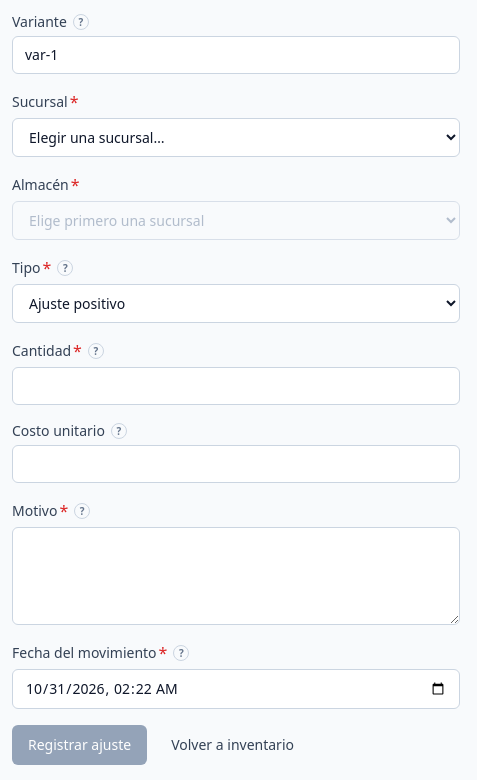
AdjustmentForm › POSTs exactly CreateAdjustmentDto (plus occurredAt) and never a tenantId
Select "Sucursal Central" in the dropdown labelled "Sucursal". click: (236, 138)
box: [12,118,460,157]
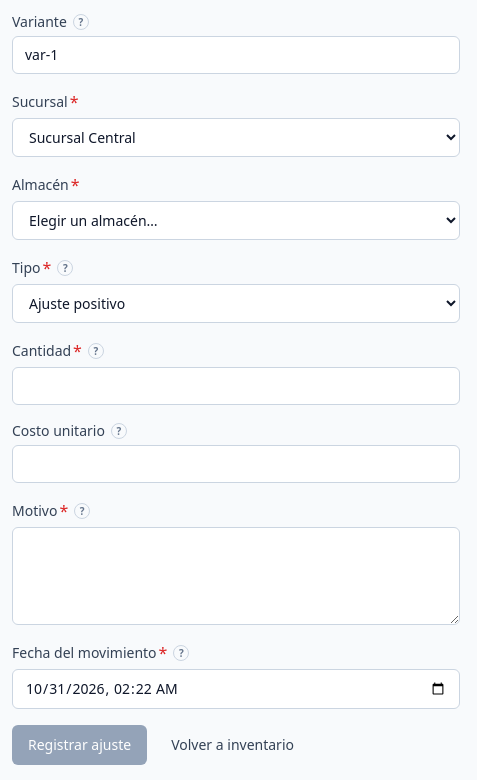
Select "Central / General" in the dropdown labelled "Almacén". click: (236, 220)
box: [12,201,460,240]
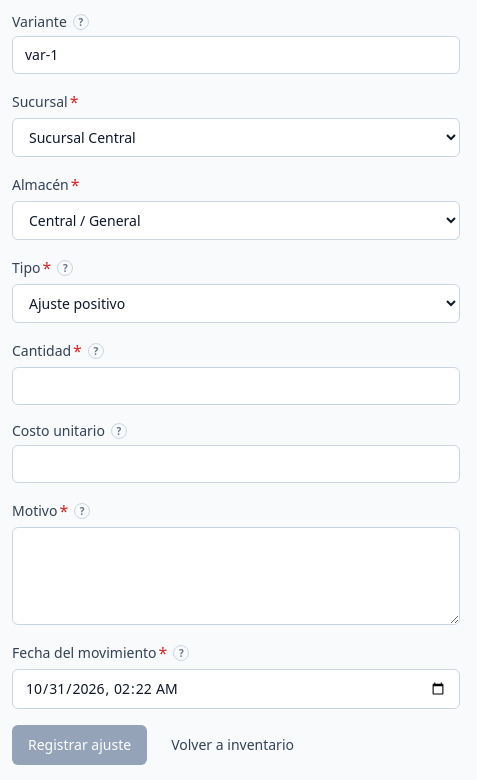
Select "Ajuste negativo" in the dropdown labelled "Tipo". click: (236, 304)
box: [12,284,460,323]
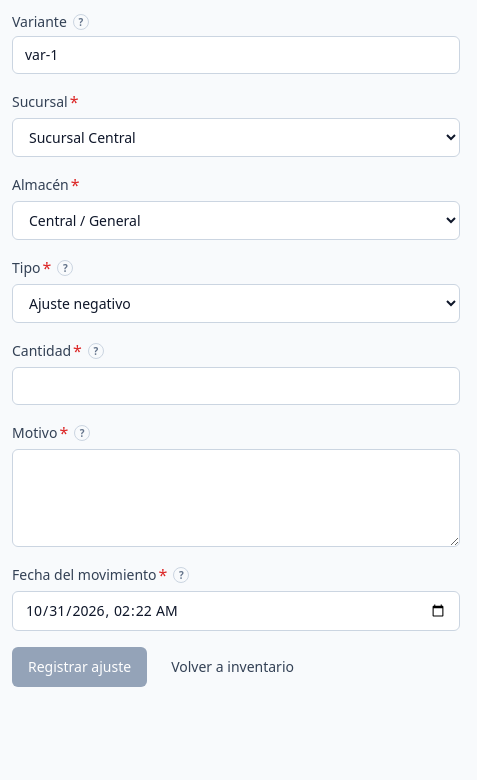
Type "5" into the number field labelled "Cantidad". click: (236, 386)
box: [12,367,460,405]
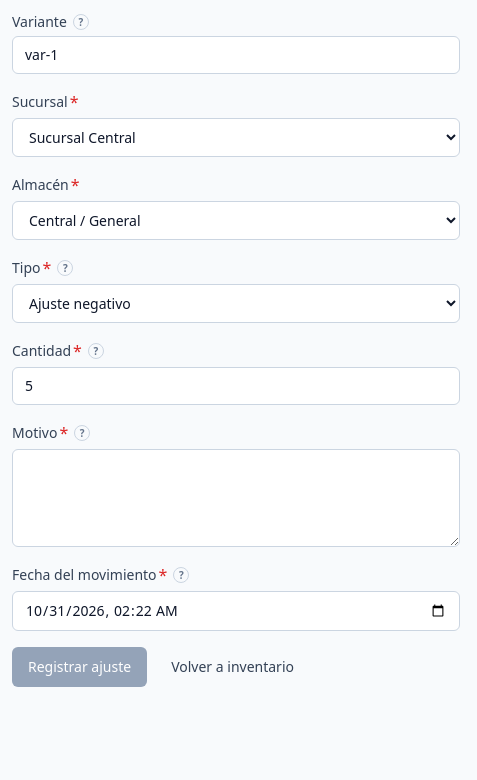
Type "cycle count" into the text box labelled "Motivo". click: (236, 498)
box: [12,449,460,547]
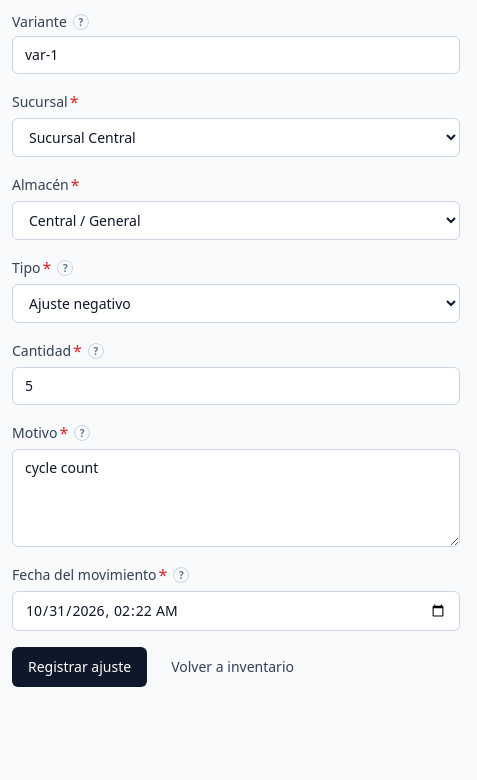
Click the button "Registrar ajuste". click: (80, 667)
box: [12,647,147,687]
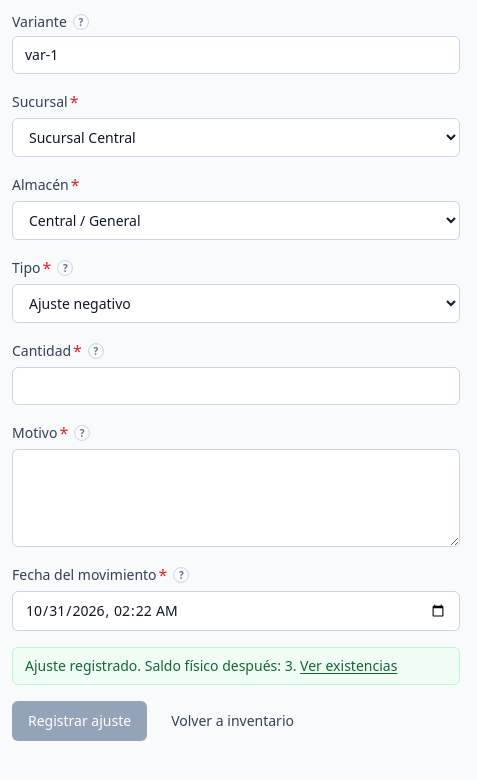
Expected: the text "Ajuste registrado. Saldo físico después: 3. Ver existencias" is shown, [25,656,447,676]
